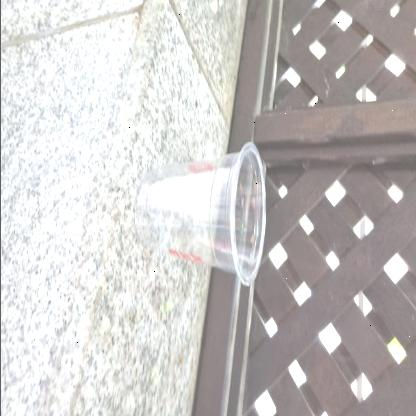Others: (128, 134, 270, 291)
